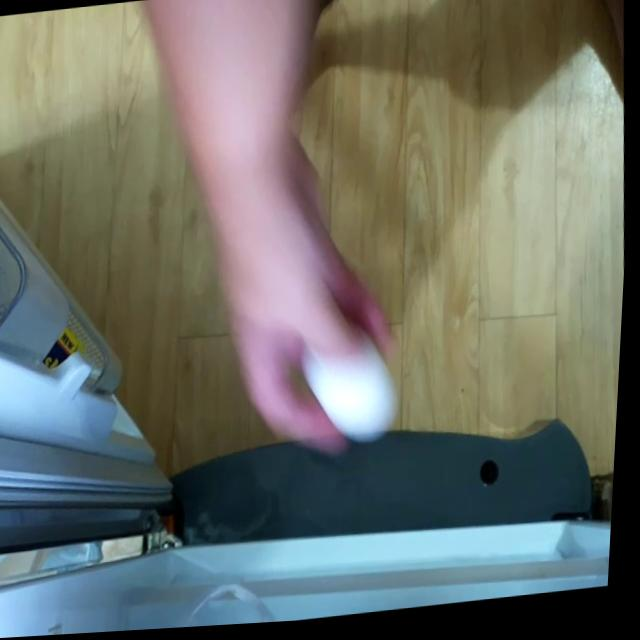egg: (297, 327, 404, 447)
